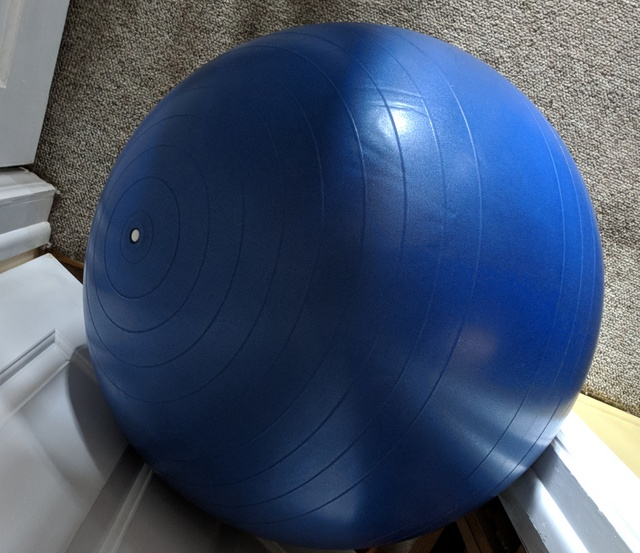ball: (82, 22, 607, 545)
